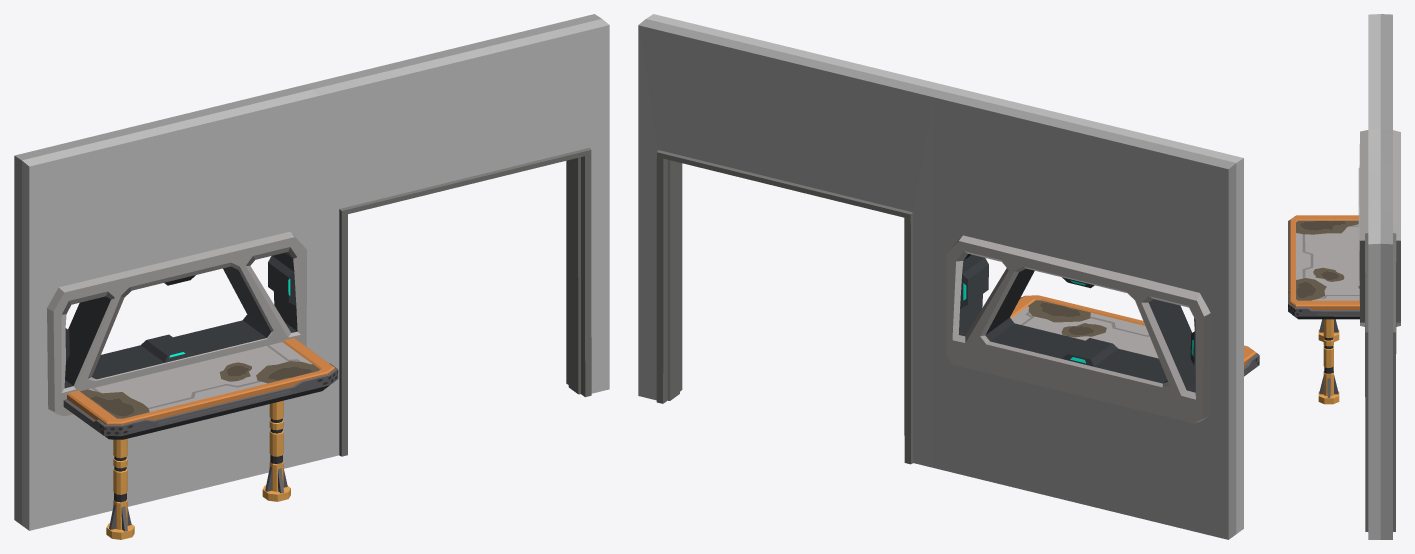
Rendered from SM_Bld_Wall_Shop_04.fbx.
The picture shows the model from 3 angles, left to right: view 1: azimuth 30°, elevation 25°; view 2: azimuth 150°, elevation 25°; view 3: azimuth 270°, elevation 25°; orthographic projection. The views are drawn at different scales.
Visible parts, largest first — view 1: SM_Bld_Wall_Shop_04; view 2: SM_Bld_Wall_Shop_04; view 3: SM_Bld_Wall_Shop_04.
Boxes of the visible parts, x1,y1,x2,y2 form: SM_Bld_Wall_Shop_04: (14,14,609,539); SM_Bld_Wall_Shop_04: (638,14,1259,539); SM_Bld_Wall_Shop_04: (1288,14,1400,539).
Bounding box in the file's own units: 500 × 302 × 104.
